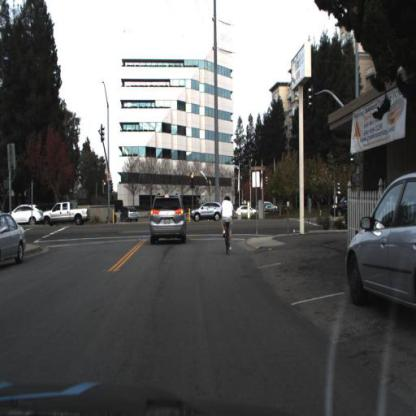biker: (219, 192, 237, 258)
car: (348, 171, 416, 324), (147, 193, 188, 251), (42, 199, 92, 231), (2, 211, 28, 271), (118, 200, 141, 225), (234, 205, 255, 221)
trafficLight-Red: (189, 171, 197, 194), (190, 174, 197, 189), (104, 181, 108, 191)
